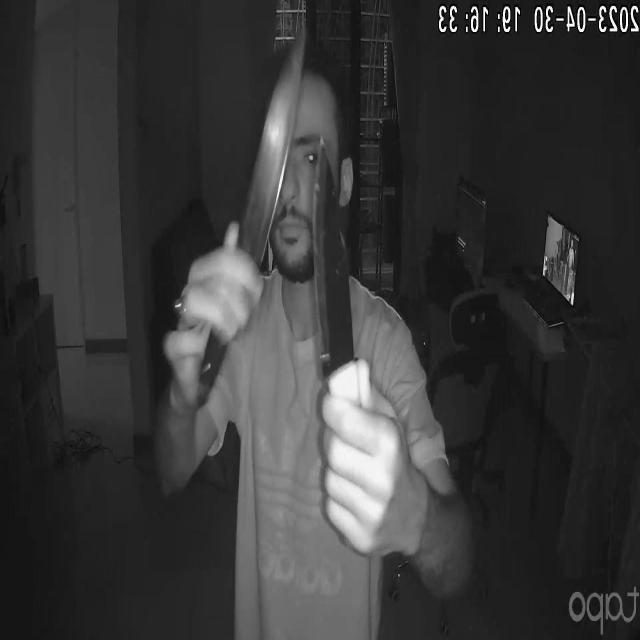Knife: (236, 22, 307, 312), (307, 131, 370, 405)
